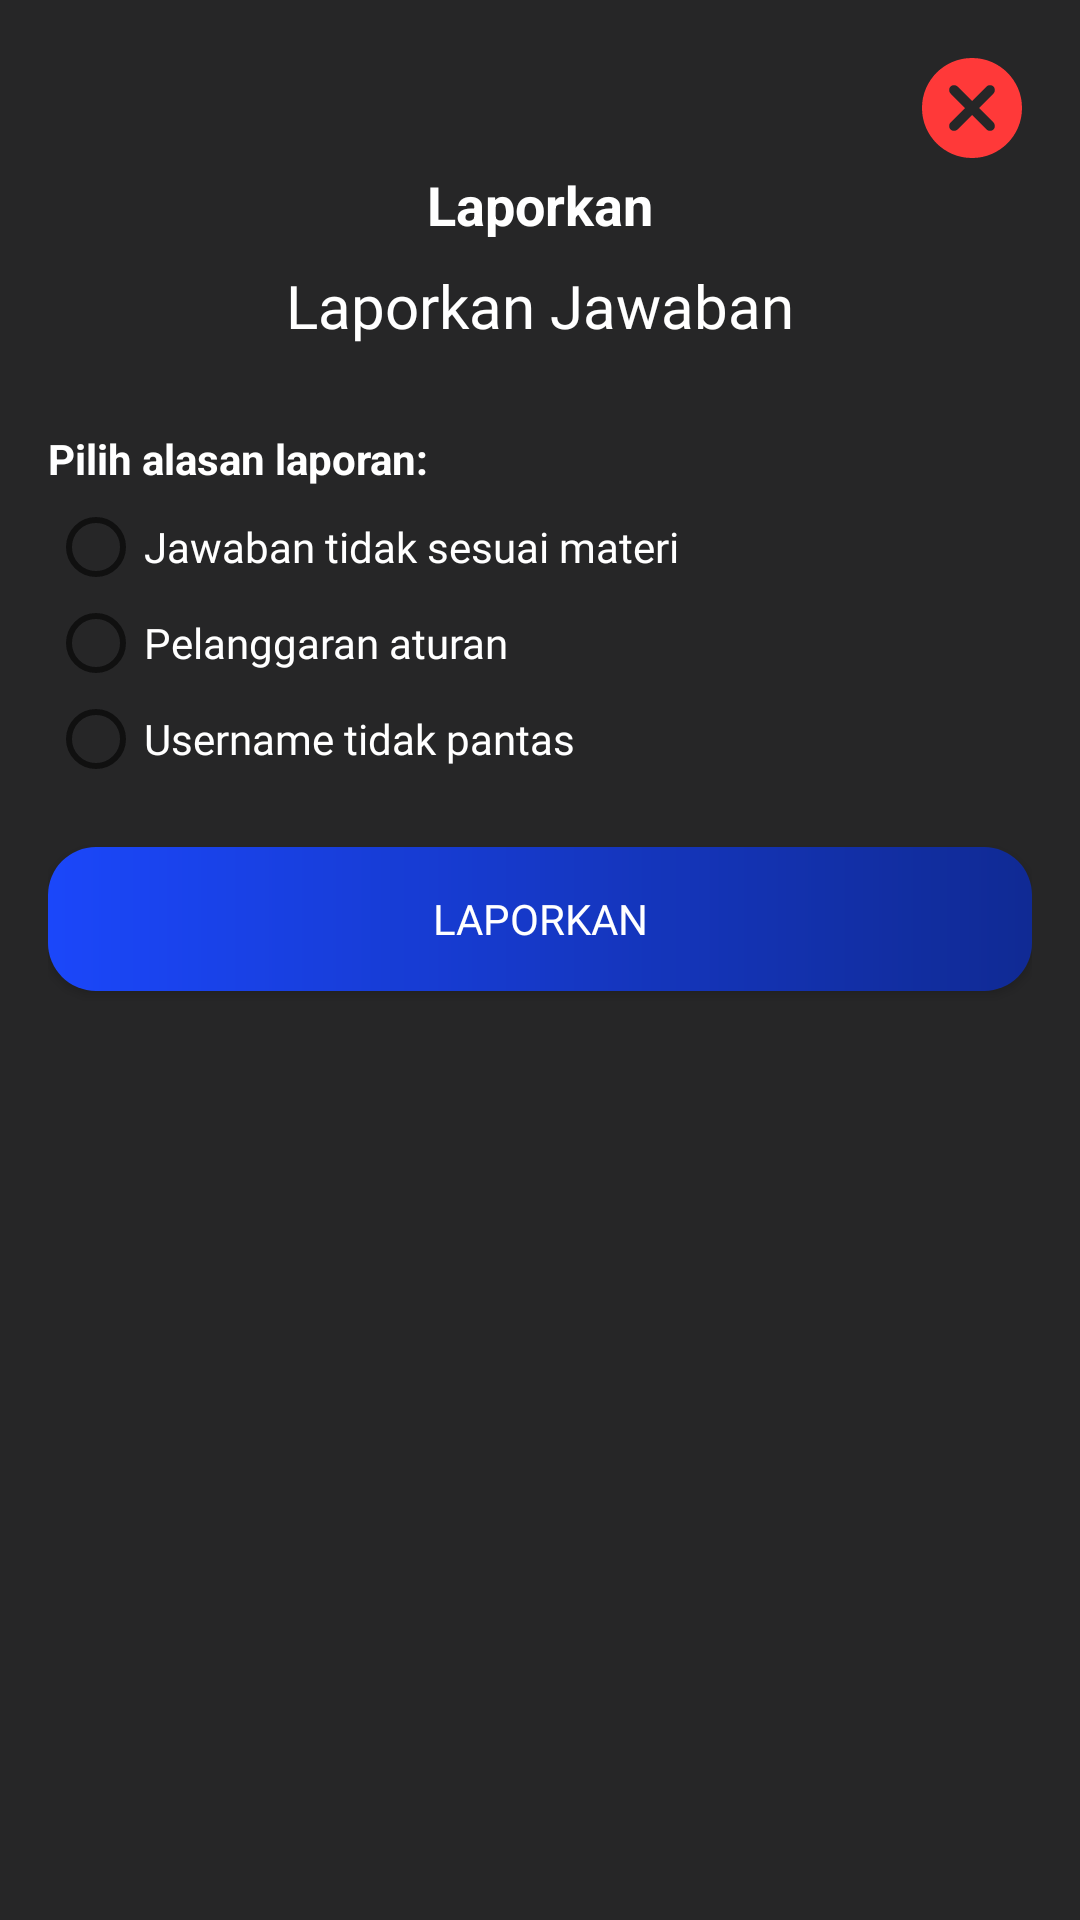

Where to tap for icons on this 1080*1920 app screen, as (x=x, y=y):
cancel: (x=972, y=108)
